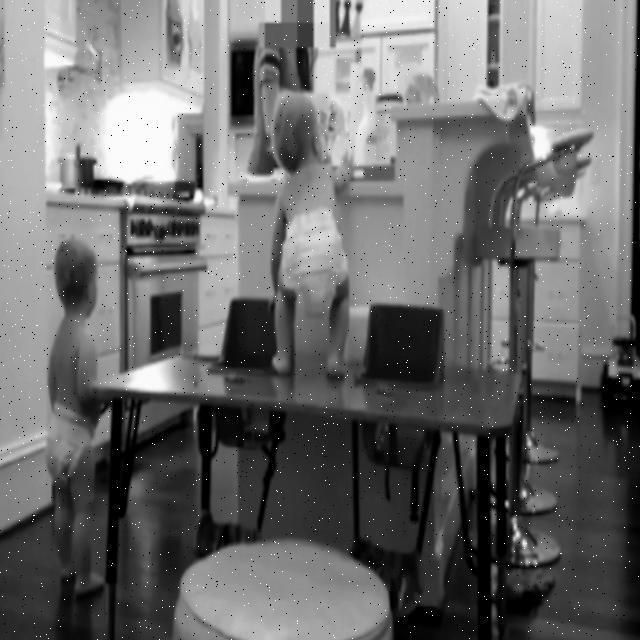child: (45, 224, 115, 592), (266, 95, 347, 376)
